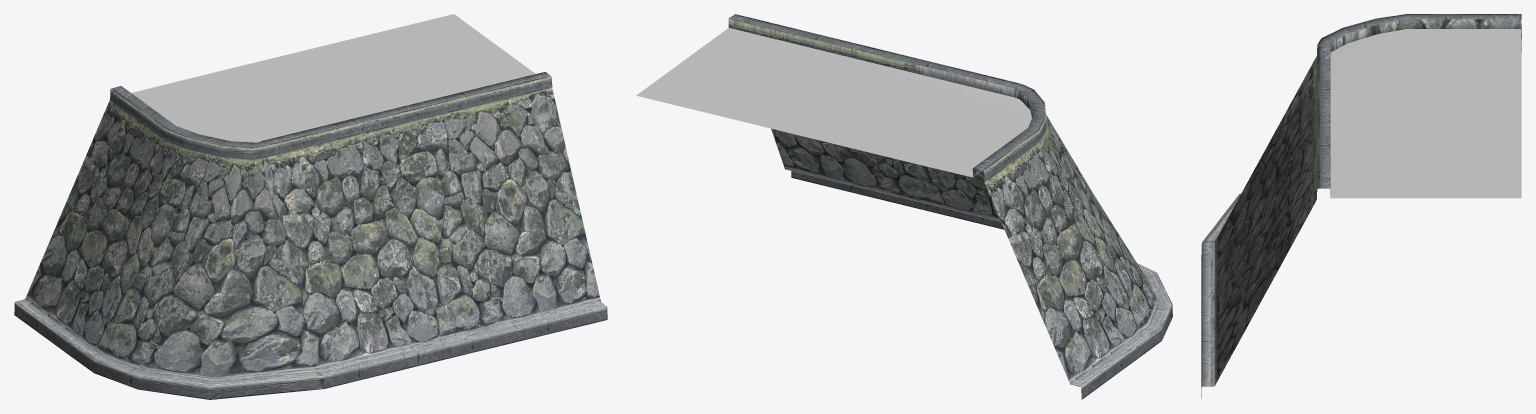
Rendered from WALL Slanted Corner C.fbx.
3 renders of one model, left to right at view 1: azimuth 30°, elevation 25°; view 2: azimuth 150°, elevation 25°; view 3: azimuth 270°, elevation 25°, orthographic. The views are drawn at different scales.
Visible parts, largest first — view 1: WALL Slanted Corner B.002; view 2: WALL Slanted Corner B.002; view 3: WALL Slanted Corner B.002.
Part boxes in pixels (<box>): WALL Slanted Corner B.002: <box>14,14,607,399</box>; WALL Slanted Corner B.002: <box>636,14,1172,399</box>; WALL Slanted Corner B.002: <box>1201,14,1521,398</box>.
Size of the model in its own units: 698 by 308 by 422.
